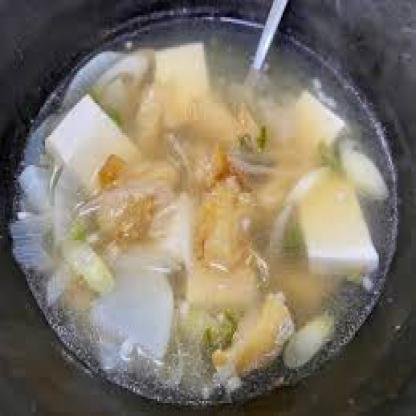dried pollack soup: (24, 24, 398, 403)
